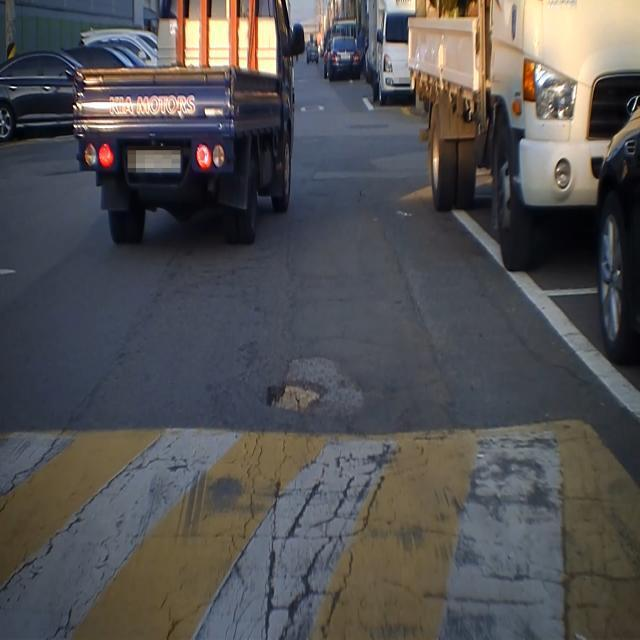Buraco: (261, 376, 332, 421)
